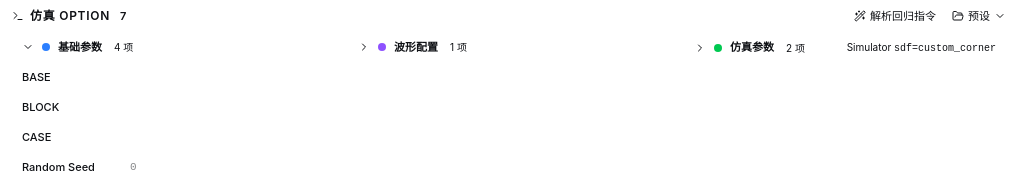
SimOptionPanel 字段渲染与编辑 › enum 自定义模式切回 select 模式时清空不在列表中的值
Check: the text "BASE" is shown, box [22, 69, 51, 85]
Click the button "仿真参数 2 项 Simulator sdf=custom_corner": (848, 48) [684, 32, 1012, 62]
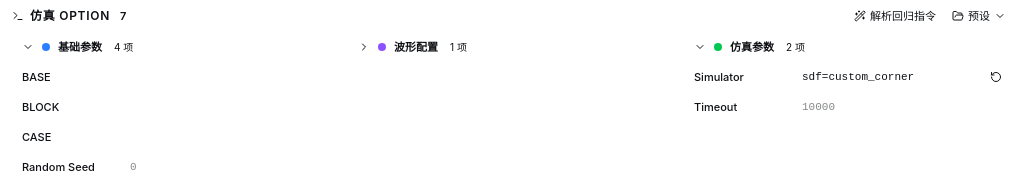
# 当前在自定义模式（值不在预设中），点击切回按钮
Click the button titled "切回预设列表": (996, 77) [990, 65, 1002, 89]
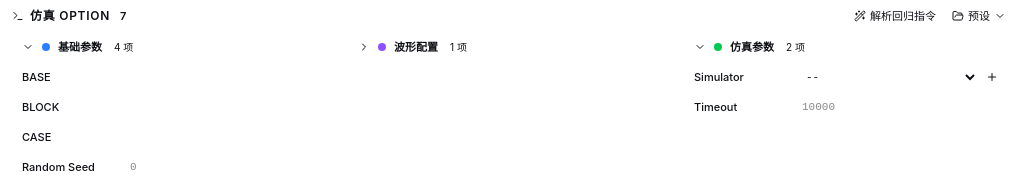
Check: the dropdown shows "--", box [796, 65, 978, 89]
